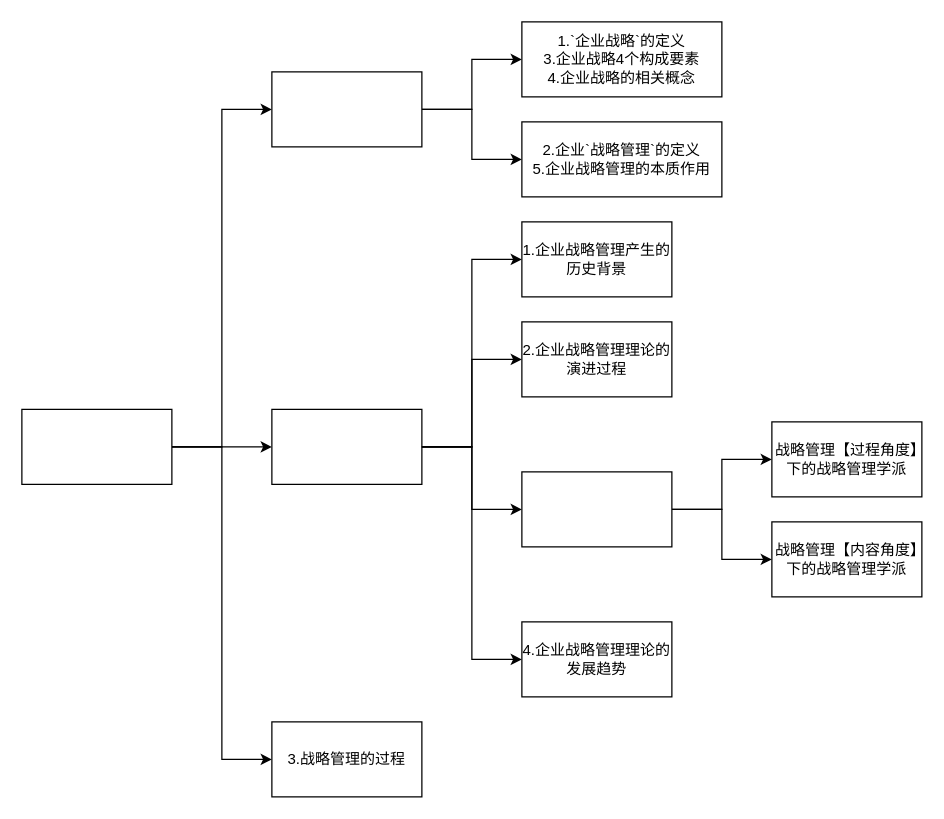
The diagram is 944 pixels wide and 819 high, and some of its shapes have lost their labels. The centre of each missing label's shape, as x and y in pixels:
1.企业战略管理的内涵: point (346, 109)
2.企业战略管理理论流派: point (346, 446)
3.企业战略管理主要流派: point (596, 509)
企业战略管理的概念与流派: point (96, 446)
